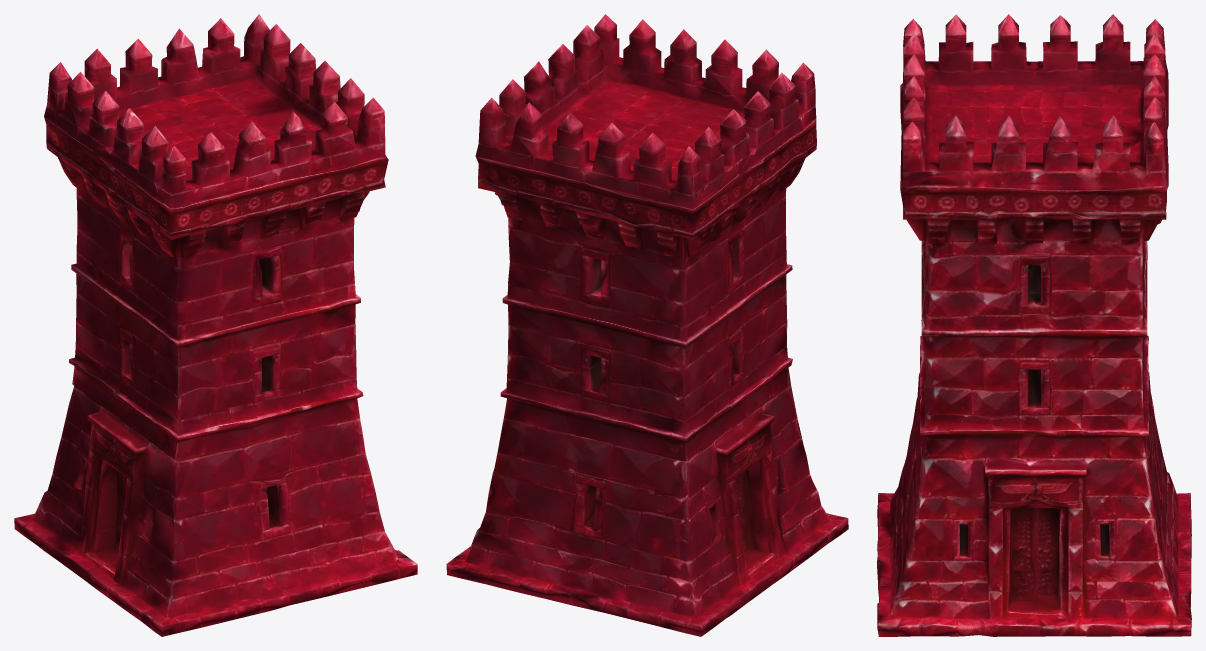
File: castle_tower_medium_diamond_red.glb
3 views of the same model, side by side, from view 1: azimuth 30°, elevation 25°; view 2: azimuth 150°, elevation 25°; view 3: azimuth 270°, elevation 25° (orthographic). The views are drawn at different scales.
Parts seen in each view (by area): view 1: tripo_node_f74a6873-0aa4-44c0-b1a2-0f1e77261948; view 2: tripo_node_f74a6873-0aa4-44c0-b1a2-0f1e77261948; view 3: tripo_node_f74a6873-0aa4-44c0-b1a2-0f1e77261948.
Part boxes in pixels (x1,y1,x2,y2): tripo_node_f74a6873-0aa4-44c0-b1a2-0f1e77261948: (14, 14, 417, 636); tripo_node_f74a6873-0aa4-44c0-b1a2-0f1e77261948: (446, 14, 848, 636); tripo_node_f74a6873-0aa4-44c0-b1a2-0f1e77261948: (877, 14, 1191, 636).
Size of the model in its own units: 0.5522 by 0.9803 by 0.5525.
Materials: 1 (1 with a texture image).
